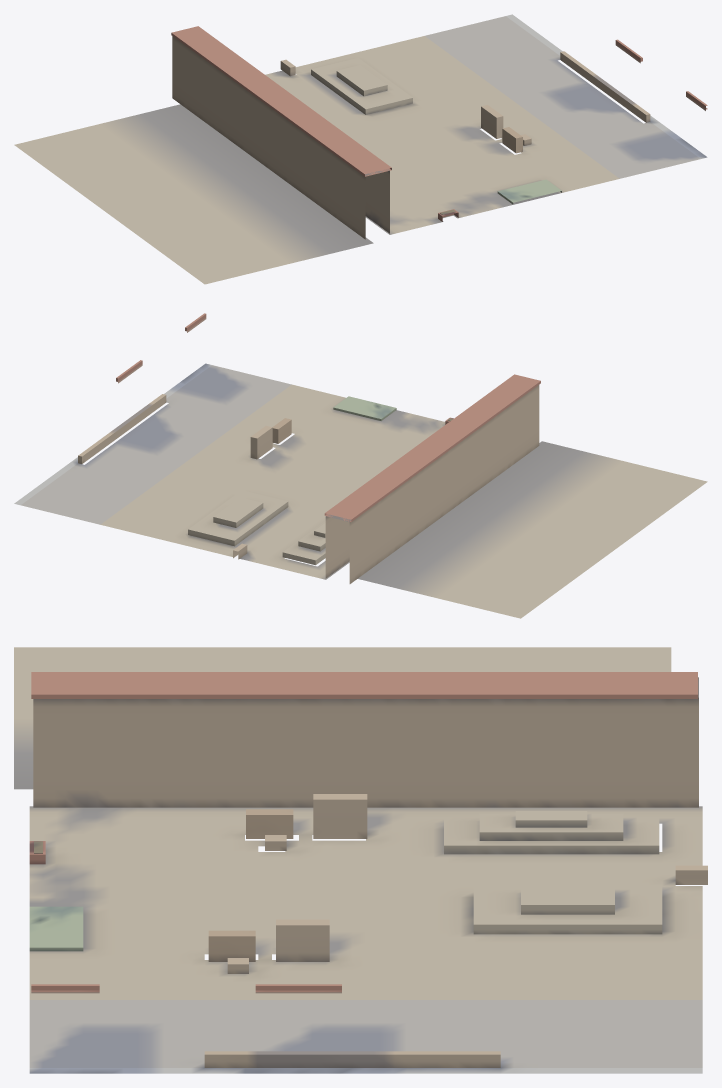
3 renders of one model, top to bottom at view 1: azimuth 30°, elevation 25°; view 2: azimuth 150°, elevation 25°; view 3: azimuth 270°, elevation 25°, orthographic. The views are drawn at different scales.
Parts seen in each view (by area): view 1: t; view 2: t; view 3: t.
Part boxes in pixels (x1,y1,x2,y2): t: [14, 14, 707, 284]; t: [14, 313, 707, 618]; t: [14, 647, 707, 1073].
Size of the model in its own units: 75.1 by 9.35 by 51.56.
